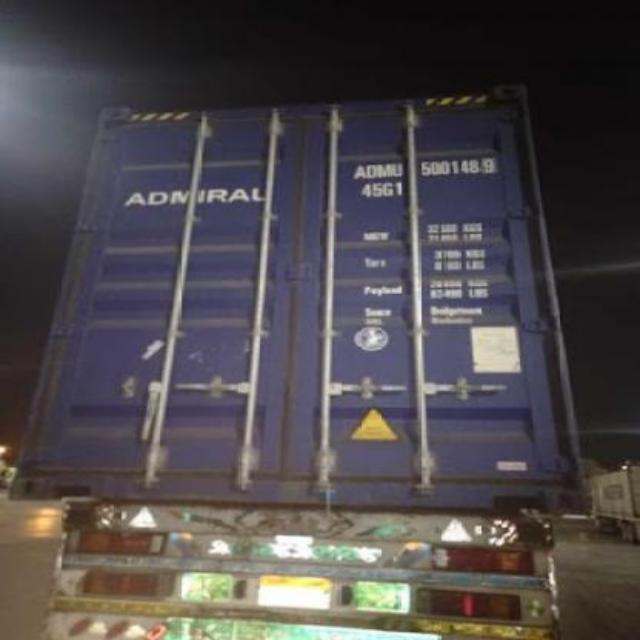0: (432, 160, 440, 176), (440, 162, 450, 174)
1: (450, 159, 460, 177)
4: (458, 159, 468, 175)
5: (418, 159, 430, 177)
8: (466, 159, 479, 175)
9: (482, 160, 494, 172)
A: (350, 164, 366, 180)
D: (364, 163, 376, 179)
M: (378, 164, 390, 178)
U: (390, 162, 402, 178)
